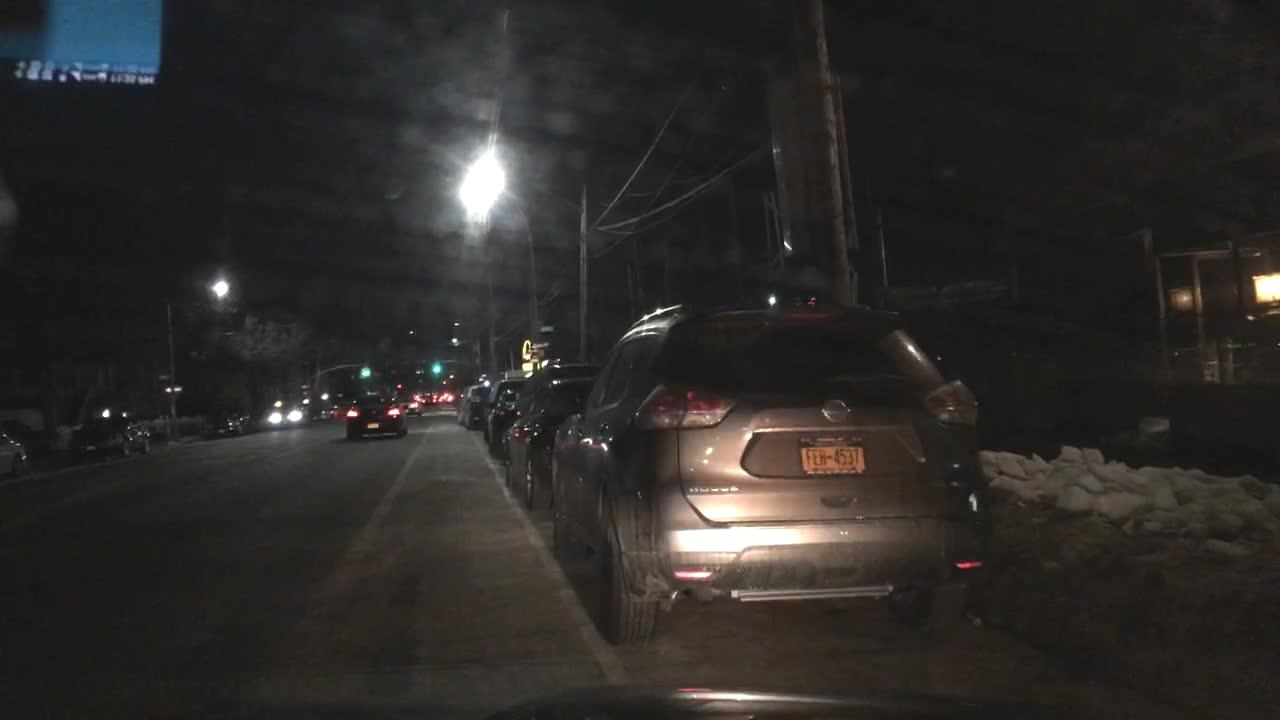Nissan: (808, 386, 865, 430)
